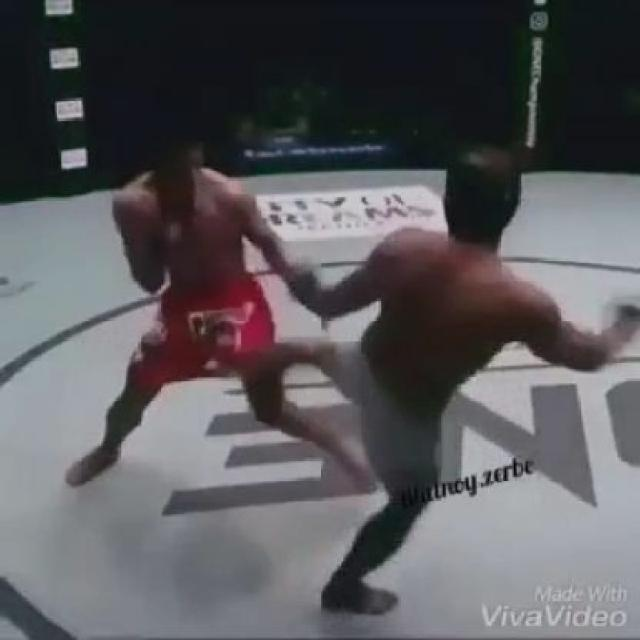fight: (63, 99, 640, 618)
